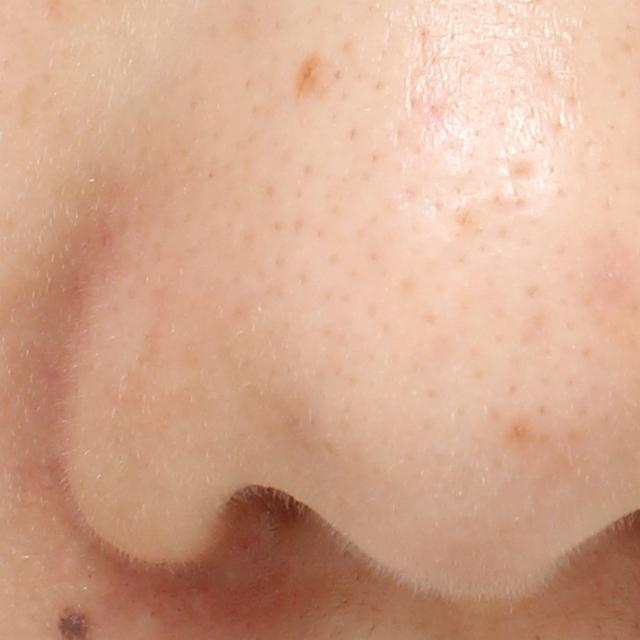atrophic_scar: (489, 150, 547, 193)
